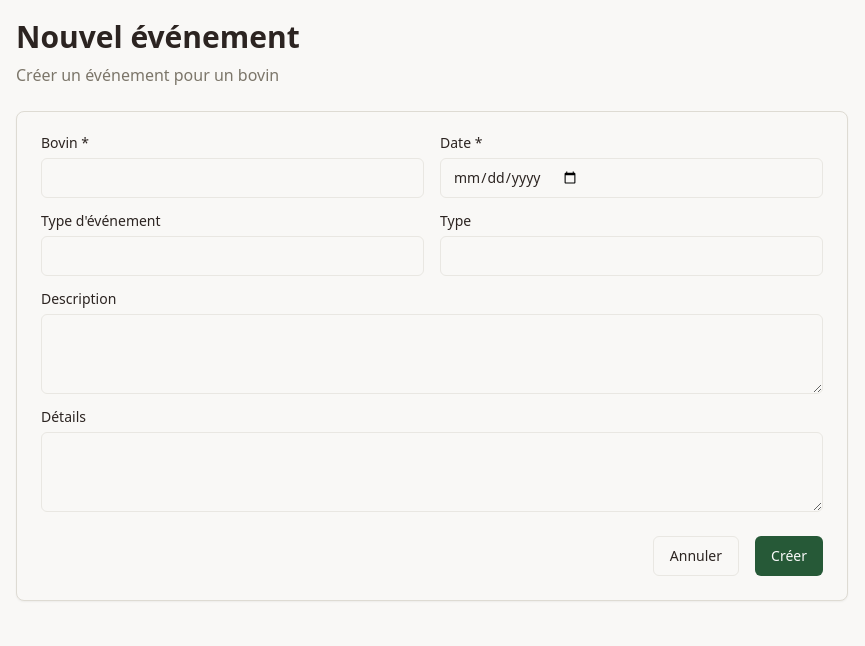
EventsCreatePage › renders the create page and shows validation errors
expect the heading "Nouvel événement" is shown: met, box [16,16,300,57]
Click the button "Créer" at (789, 556), box [755,536,823,576]
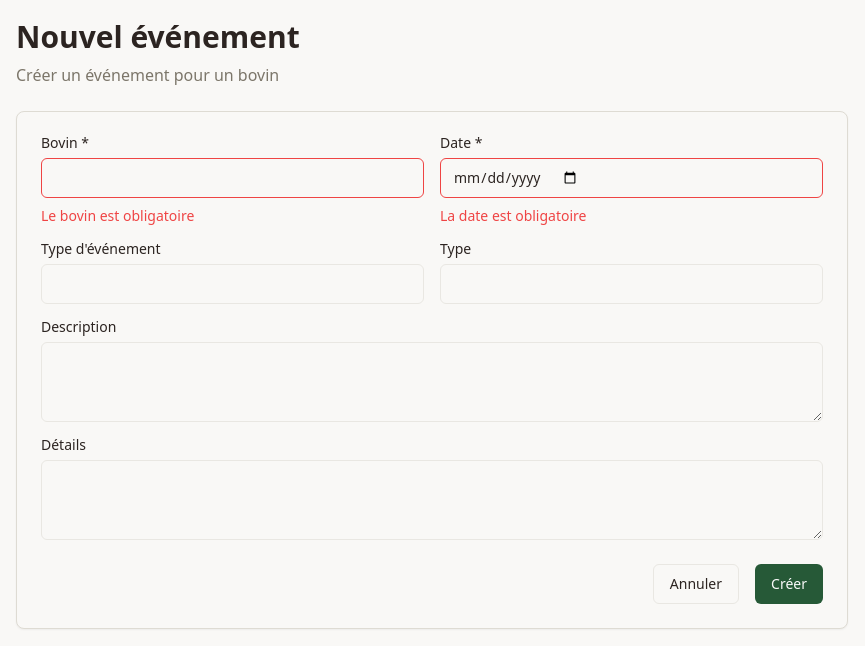
expect the text "Le bovin est obligatoire" is shown: met, box [41,206,194,225]
expect the text "La date est obligatoire" is shown: met, box [440,206,586,225]
